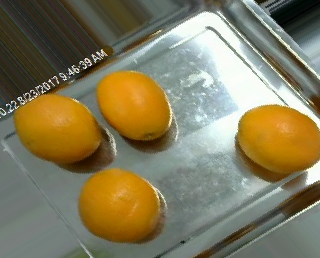Orange: (76, 167, 161, 243), (13, 92, 102, 163), (236, 104, 320, 175), (96, 70, 174, 142)
